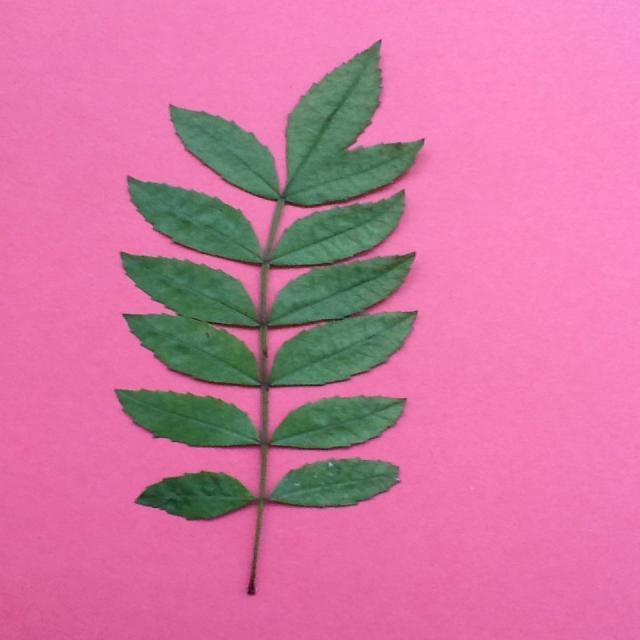foliage: (282, 30, 391, 188), (262, 248, 420, 332), (267, 306, 422, 391), (260, 184, 416, 268), (125, 174, 262, 268), (118, 308, 264, 392), (166, 102, 284, 202), (120, 247, 258, 326), (282, 136, 431, 206), (109, 383, 260, 450), (264, 392, 414, 452), (260, 453, 407, 510), (133, 469, 258, 524)
